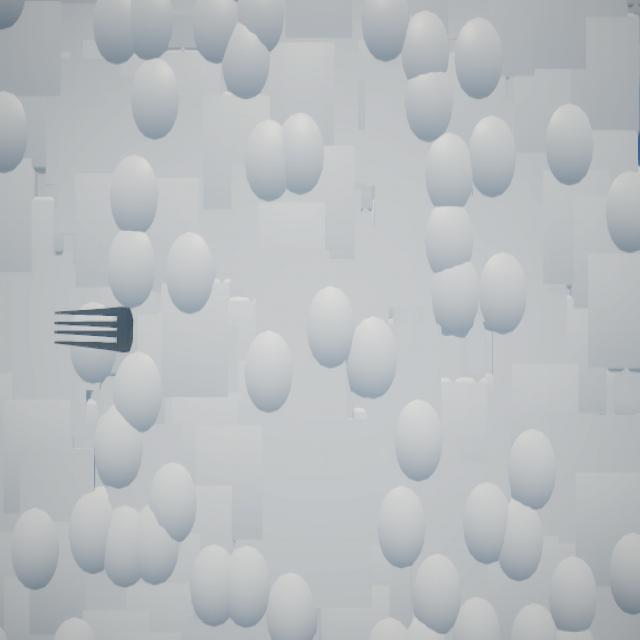top_folk: (55, 308, 134, 354)
